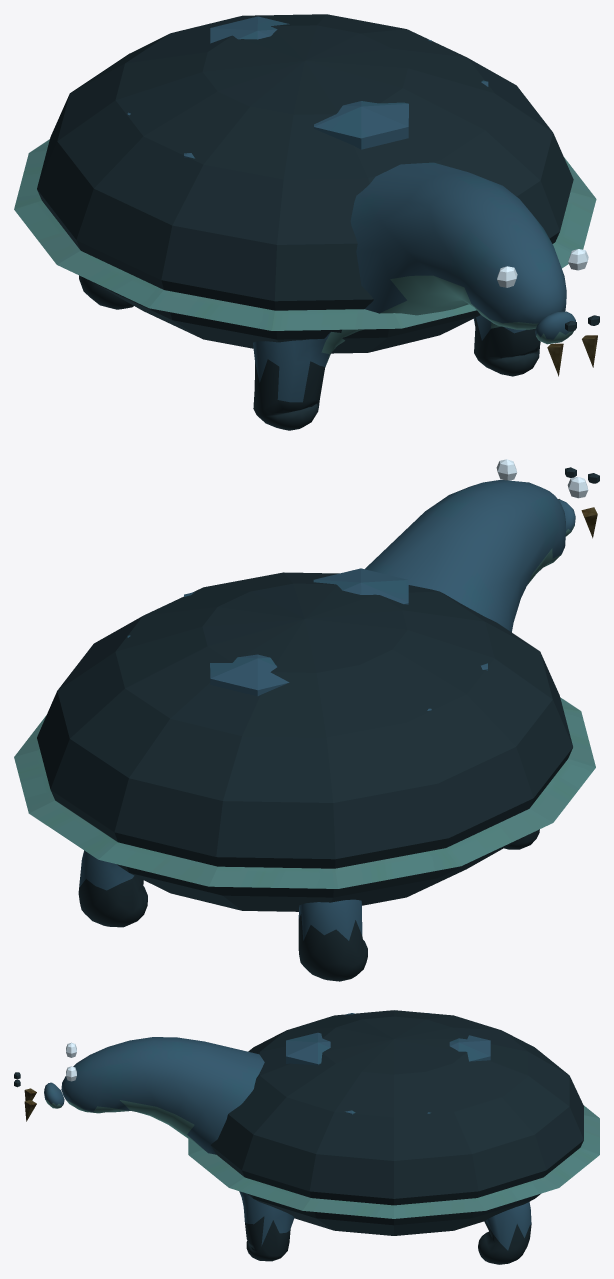
File: mon_sp_water_turtle.glb
The picture shows the model from 3 angles, top to bottom: view 1: azimuth 30°, elevation 25°; view 2: azimuth 150°, elevation 25°; view 3: azimuth 270°, elevation 25°; orthographic projection. The views are drawn at different scales.
Parts seen in each view (by area): view 1: mon_sp_water_turtle; view 2: mon_sp_water_turtle; view 3: mon_sp_water_turtle.
Part boxes in pixels (left/top/right/bottom): mon_sp_water_turtle: left=14, top=14, right=599, bottom=430; mon_sp_water_turtle: left=14, top=459, right=599, bottom=981; mon_sp_water_turtle: left=14, top=1010, right=599, bottom=1264.
Size of the model in its own units: 0.7996 by 0.4218 by 1.2.
5 materials, 3 textured.
